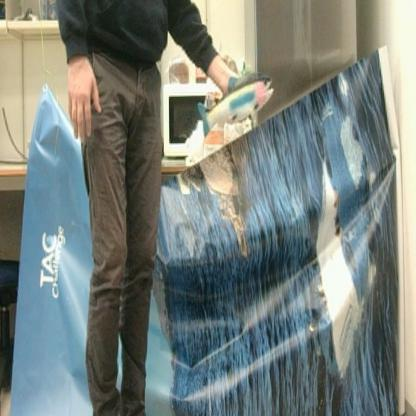rubberfish: (193, 67, 277, 142)
